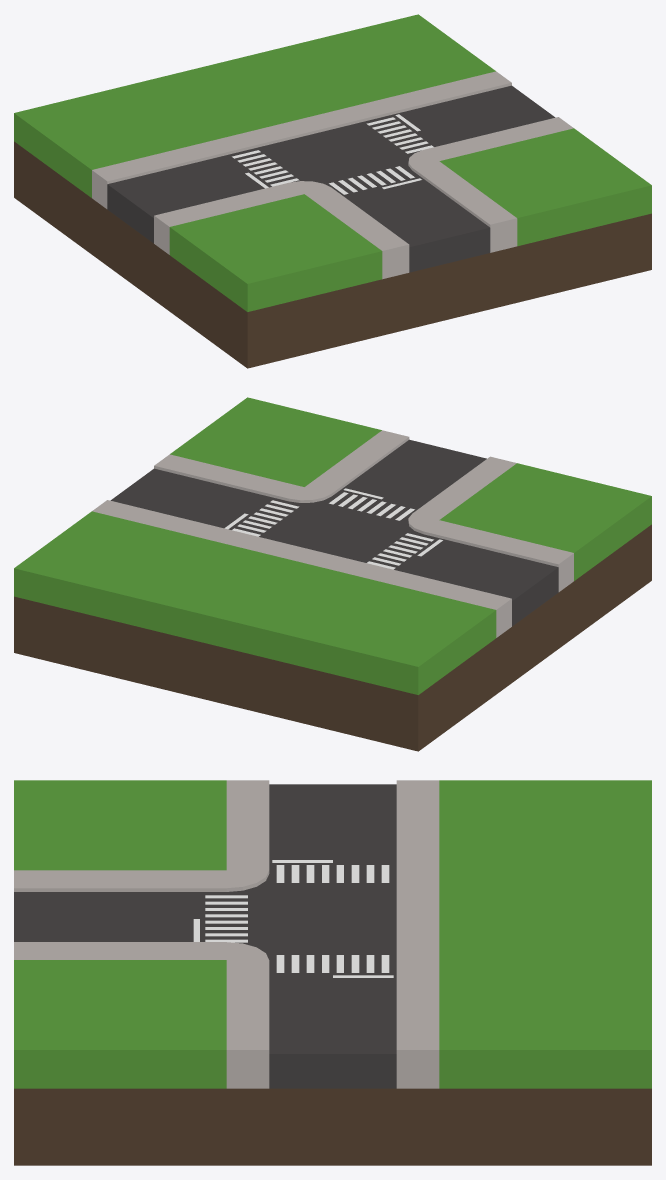
File: tile-road-intersection-t.glb
3 renders of one model, top to bottom at view 1: azimuth 30°, elevation 25°; view 2: azimuth 150°, elevation 25°; view 3: azimuth 270°, elevation 25°, orthographic. The views are drawn at different scales.
Parts seen in each view (by area): view 1: tile-road-intersection-t; view 2: tile-road-intersection-t; view 3: tile-road-intersection-t.
Part boxes in pixels (box(x1,y1,x2,y2)): tile-road-intersection-t: box(14, 14, 651, 368); tile-road-intersection-t: box(14, 397, 651, 751); tile-road-intersection-t: box(14, 780, 651, 1165).
Bounding box in the file's own units: 30 × 6 × 30.
Materials: 1 (1 with a texture image).
